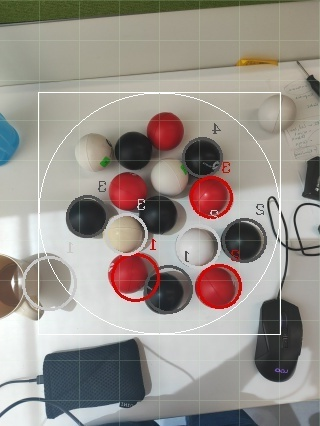Pelota blanca: (23, 252, 79, 320), (103, 212, 151, 254), (175, 225, 220, 267), (0, 387, 49, 425), (0, 252, 25, 320), (77, 132, 116, 174), (258, 92, 297, 134), (151, 158, 191, 198), (292, 201, 320, 256), (0, 110, 23, 168), (39, 409, 84, 425)
Pelota negra: (146, 262, 193, 315), (220, 217, 268, 264), (138, 193, 188, 235), (66, 193, 108, 240), (183, 134, 225, 176), (114, 129, 153, 171)
Pelota roja: (106, 252, 161, 304), (194, 262, 244, 310), (189, 174, 236, 219), (109, 169, 151, 211), (146, 110, 185, 152)
